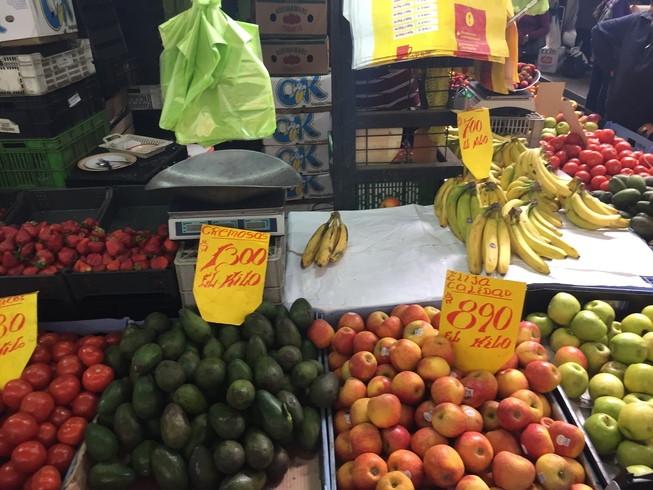precio: (444, 270, 527, 381), (196, 223, 268, 326), (454, 108, 497, 184), (1, 293, 37, 381)
